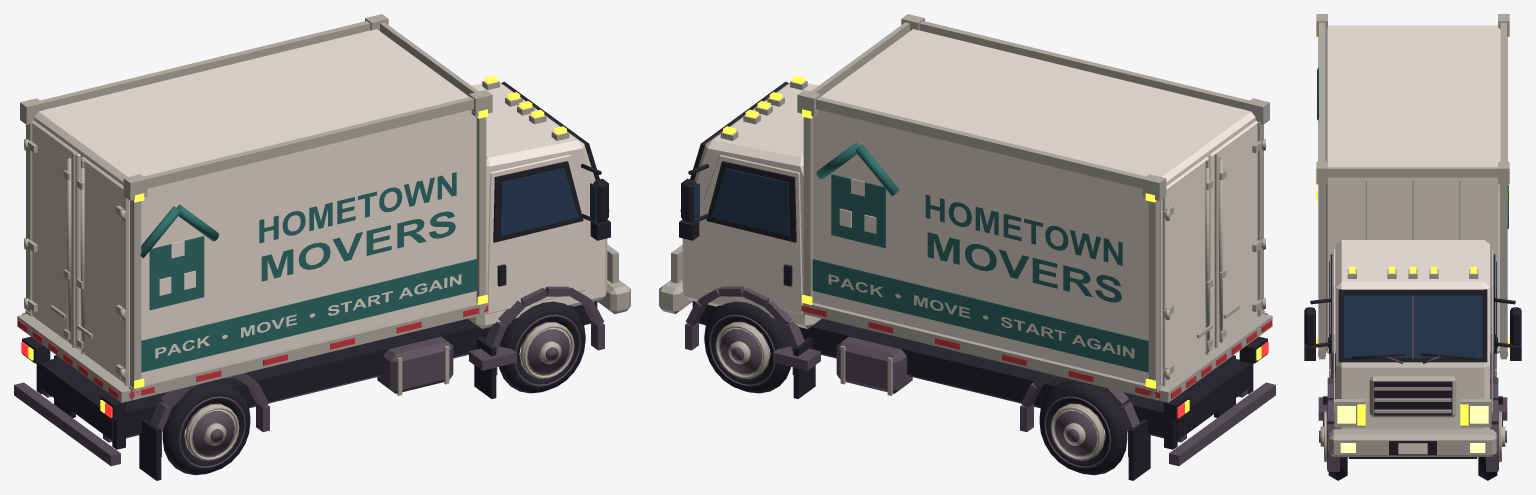
The picture shows the model from 3 angles, left to right: view 1: azimuth 30°, elevation 25°; view 2: azimuth 150°, elevation 25°; view 3: azimuth 270°, elevation 25°; orthographic projection. The views are drawn at different scales.
Visible parts, largest first — view 1: body_pal_picketWhite, body_pal_silver, body_pal_backpackTeal, body_pal_uiDark, body_pal_asphalt, cargoDoorL_pal_picketWhite, cargoDoorR_pal_picketWhite, doorL_pal_picketWhite, doorL_pal_blueTrim, wheelRL_pal_uiDark, wheelFL_pal_uiDark, cargoDoorR_pal_silver (+8 smaller); view 2: body_pal_picketWhite, body_pal_silver, body_pal_backpackTeal, body_pal_uiDark, body_pal_asphalt, cargoDoorR_pal_picketWhite, cargoDoorL_pal_picketWhite, doorR_pal_picketWhite, doorR_pal_blueTrim, wheelRR_pal_uiDark, wheelFR_pal_uiDark, cargoDoorL_pal_silver (+8 smaller); view 3: body_pal_picketWhite, body_pal_silver, body_pal_blueTrim, body_pal_uiDark, body_pal_asphalt, doorL_pal_uiDark, doorR_pal_uiDark, lampHeadL_emi_windowGlow, lampHeadR_emi_windowGlow, clearanceLamps_emi_schoolBusYellow, doorL_pal_picketWhite, doorR_pal_picketWhite (+2 smaller).
Part boxes in pixels (x1,y1,x2,y2): body_pal_picketWhite: [34, 29, 607, 385]; body_pal_silver: [17, 14, 630, 402]; body_pal_backpackTeal: [140, 172, 477, 372]; body_pal_uiDark: [22, 81, 609, 480]; body_pal_asphalt: [14, 286, 604, 466]; cargoDoorL_pal_picketWhite: [81, 157, 129, 385]; cargoDoorR_pal_picketWhite: [32, 120, 80, 349]; doorL_pal_picketWhite: [487, 155, 586, 313]; doorL_pal_blueTrim: [500, 168, 596, 236]; wheelRL_pal_uiDark: [162, 381, 250, 475]; wheelFL_pal_uiDark: [499, 301, 585, 393]; cargoDoorR_pal_silver: [24, 122, 75, 347]; body_pal_picketWhite: [682, 29, 1255, 385]; body_pal_silver: [659, 14, 1272, 402]; body_pal_backpackTeal: [812, 142, 1148, 372]; body_pal_uiDark: [680, 81, 1267, 480]; body_pal_asphalt: [685, 286, 1275, 466]; cargoDoorR_pal_picketWhite: [1160, 157, 1208, 385]; cargoDoorL_pal_picketWhite: [1209, 120, 1257, 349]; doorR_pal_picketWhite: [703, 155, 802, 313]; doorR_pal_blueTrim: [693, 168, 789, 236]; wheelRR_pal_uiDark: [1039, 381, 1127, 475]; wheelFR_pal_uiDark: [704, 301, 790, 393]; cargoDoorL_pal_silver: [1214, 122, 1265, 347]; body_pal_picketWhite: [1325, 25, 1500, 454]; body_pal_silver: [1316, 14, 1509, 456]; body_pal_blueTrim: [1343, 295, 1482, 357]; body_pal_uiDark: [1323, 289, 1502, 458]; body_pal_asphalt: [1318, 295, 1507, 471]; doorL_pal_uiDark: [1304, 254, 1332, 360]; doorR_pal_uiDark: [1493, 254, 1521, 360]; lampHeadL_emi_windowGlow: [1337, 406, 1355, 452]; lampHeadR_emi_windowGlow: [1470, 406, 1488, 452]; clearanceLamps_emi_schoolBusYellow: [1316, 28, 1509, 347]; doorL_pal_picketWhite: [1333, 249, 1334, 412]; doorR_pal_picketWhite: [1491, 249, 1492, 412].
Bounding box in the file's own units: 6.83 × 3.99 × 2.79.
